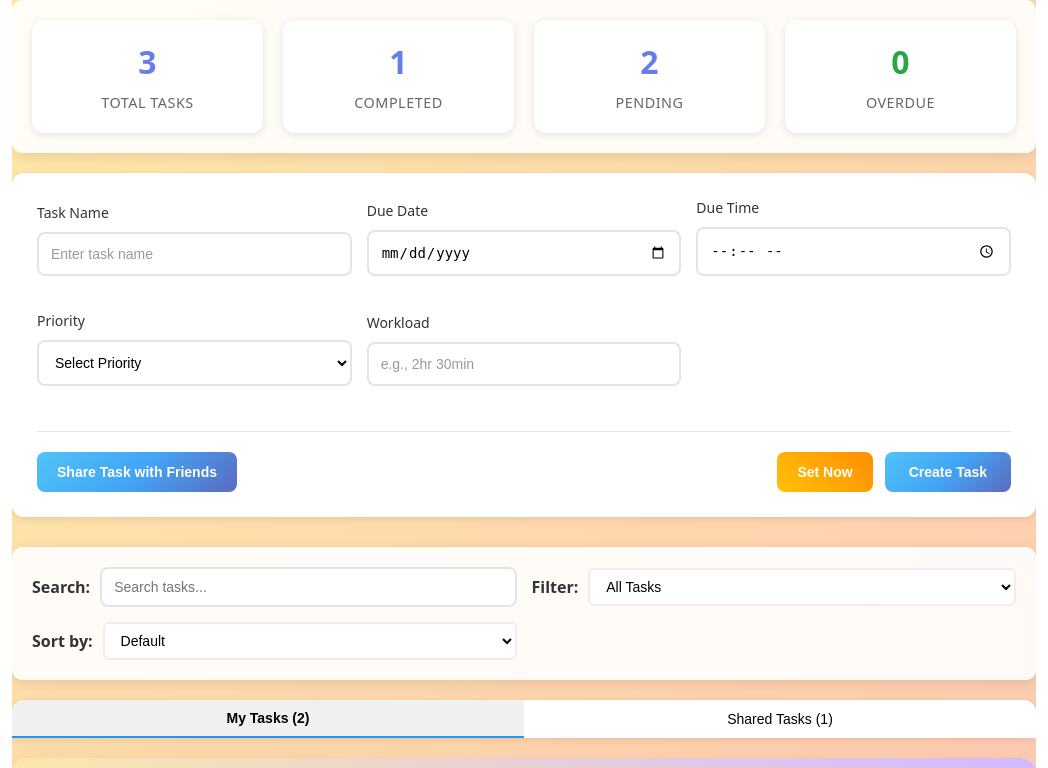
Scenario: Task component › shows validation error for past due date
In the field with placeholder "Enter task name": (194,254) [37, 232, 352, 276], type "Valid Task"
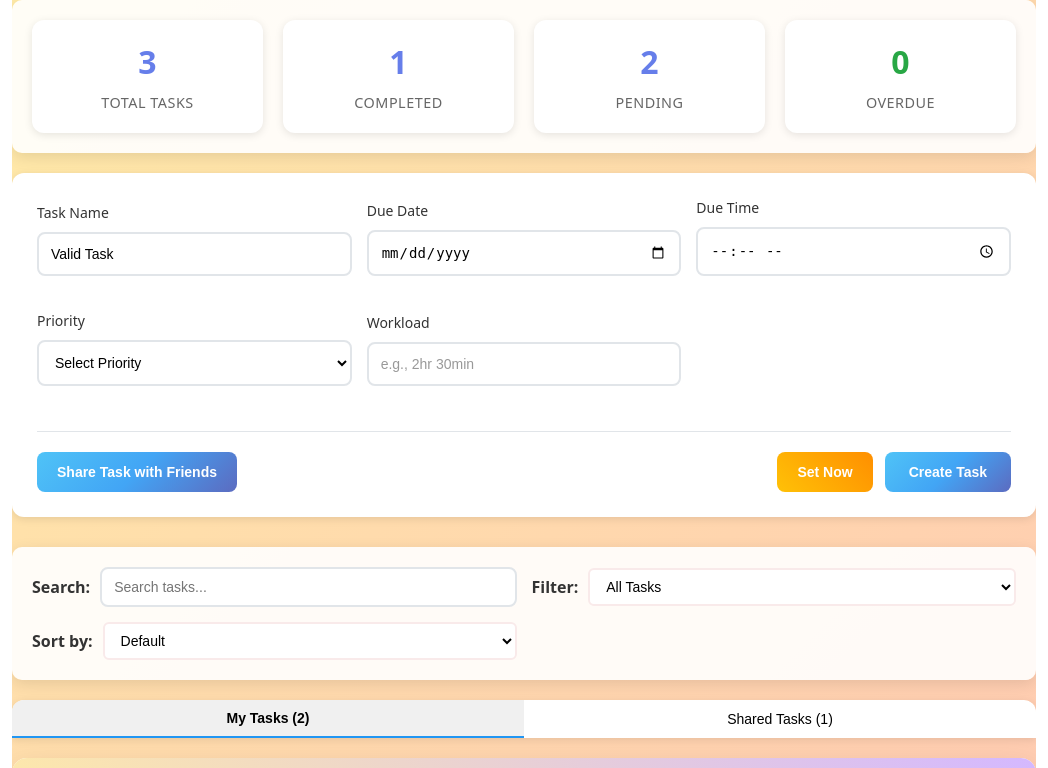
In the date field labelled "Due Date": (524,253) [367, 230, 681, 276], type "2000-01-01"
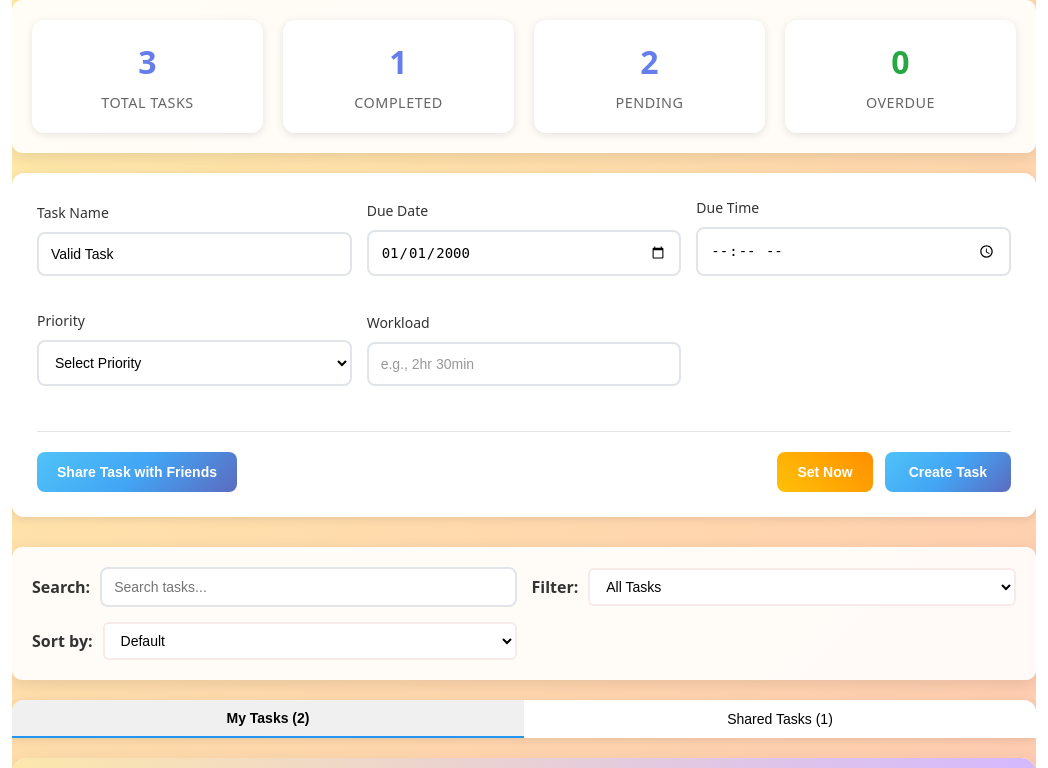
Select "High Priority" in the dropdown labelled "Priority": (194,363) [37, 340, 352, 386]
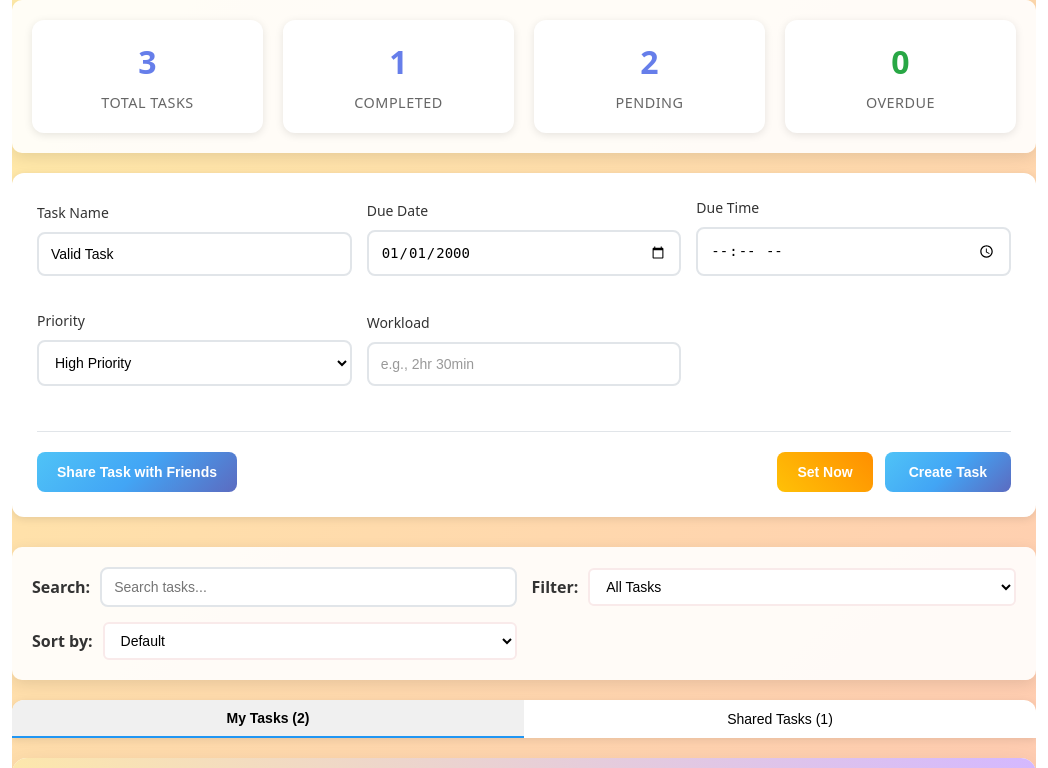
In the field with placeholder "e.g., 2hr 30min": (524,364) [367, 342, 681, 386], type "1hr"
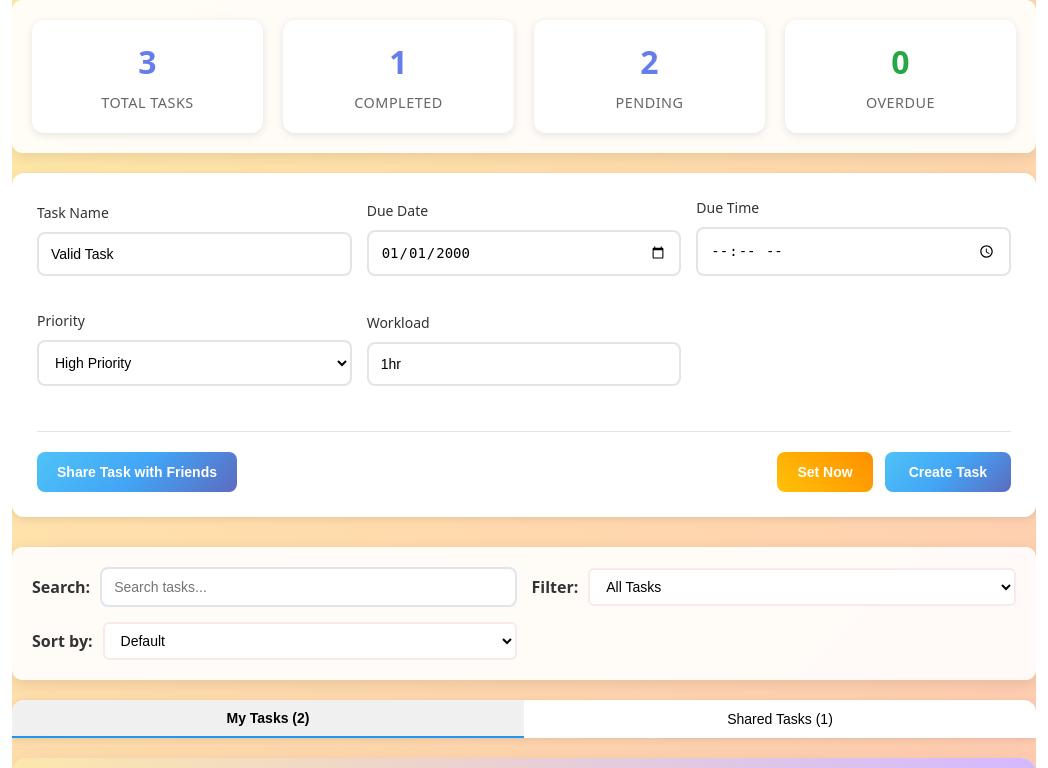
Click the button "Create Task": (948,472) [885, 452, 1011, 492]
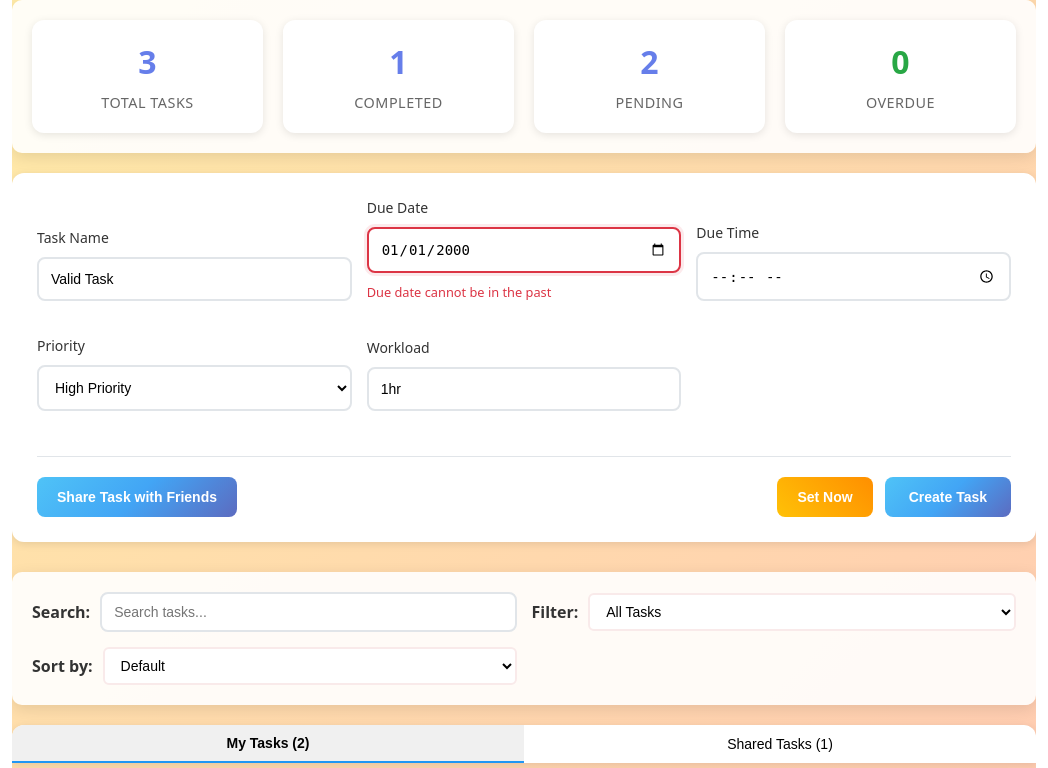
Now the text "Due date cannot be in the past" is shown, box [367, 283, 551, 301]
